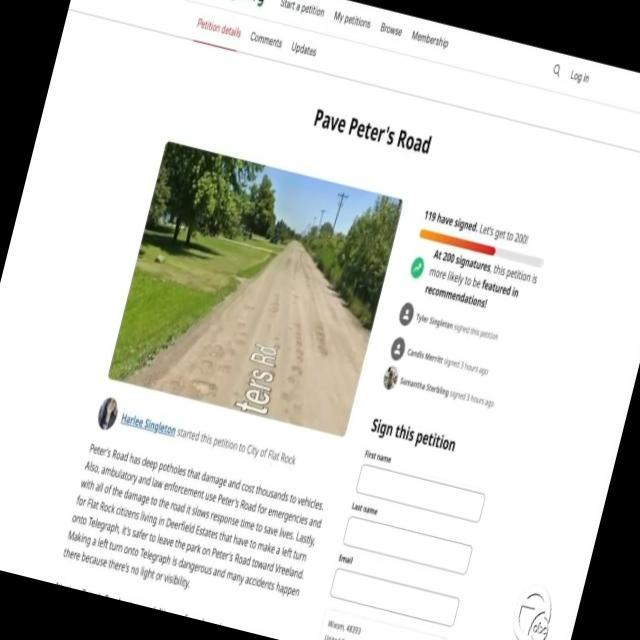Pothole: (307, 316, 335, 362), (190, 377, 218, 399), (202, 334, 225, 358), (215, 356, 232, 375), (278, 385, 294, 403), (288, 364, 306, 378), (200, 356, 214, 371)
